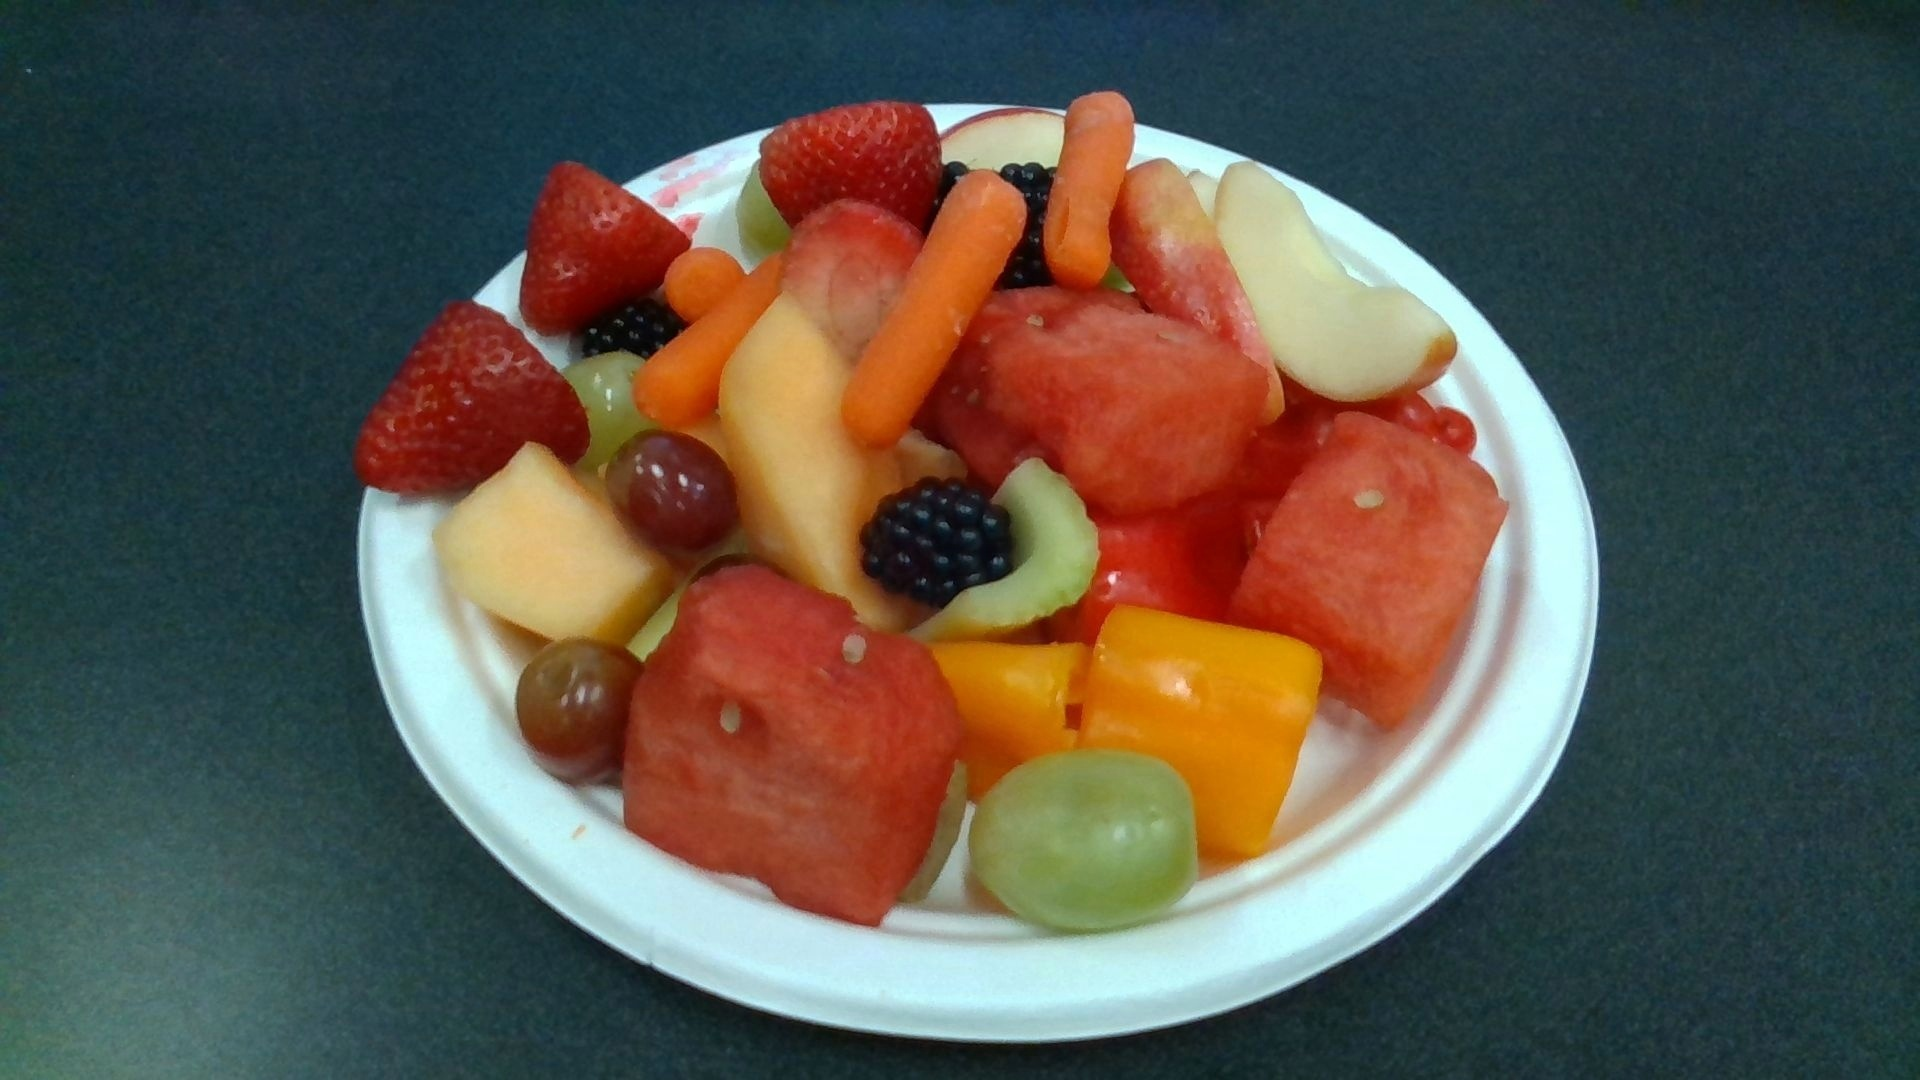apple: (1215, 160, 1455, 401)
bell_pepper: (1072, 608, 1320, 856)
blackberry: (860, 480, 1015, 603)
cantalope: (719, 293, 916, 632), (434, 440, 669, 645)
carrot: (840, 170, 1029, 448), (1044, 88, 1135, 285)
grape_green: (971, 752, 1195, 926)
grape_purple: (517, 638, 640, 785), (609, 431, 738, 551)
melon: (624, 566, 957, 926), (1232, 411, 1505, 725), (939, 284, 1269, 506), (1110, 161, 1282, 415)
strawberry: (357, 305, 589, 495), (522, 160, 690, 330), (760, 100, 944, 236), (781, 204, 922, 356)
